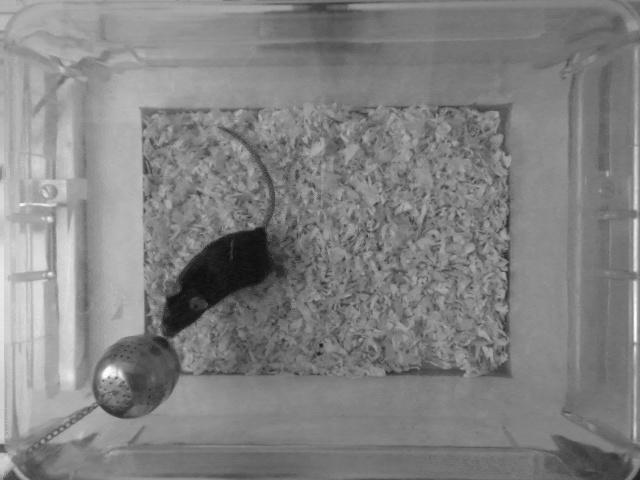mice: (158, 115, 291, 340)
